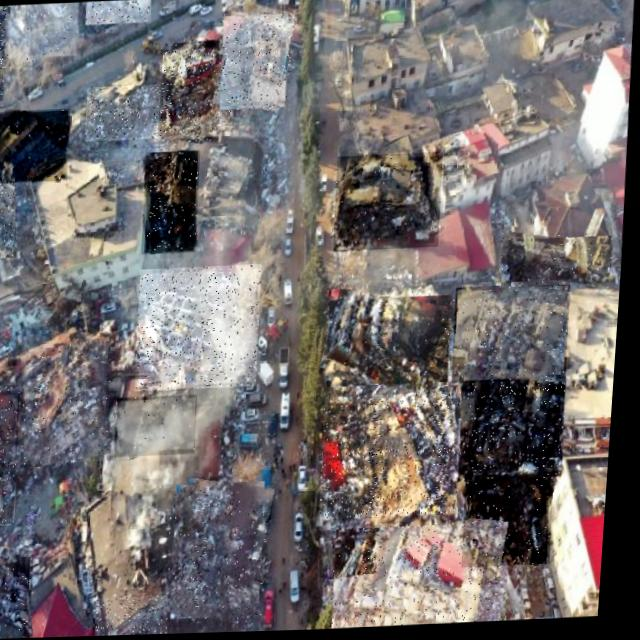Rubble: (336, 520, 520, 630), (324, 393, 473, 521), (137, 265, 267, 392), (171, 479, 279, 623), (324, 291, 462, 395), (455, 286, 576, 386), (23, 341, 119, 466), (462, 378, 573, 485), (334, 154, 446, 253), (467, 474, 562, 570), (215, 13, 294, 113), (142, 151, 204, 255), (503, 234, 617, 290), (159, 49, 224, 145), (0, 109, 73, 183), (119, 396, 203, 458), (3, 3, 81, 61), (85, 85, 162, 142), (168, 41, 222, 116), (0, 384, 27, 525), (0, 554, 43, 640), (100, 596, 178, 637), (0, 163, 21, 259), (85, 0, 150, 25), (0, 5, 10, 100), (0, 282, 0, 353)
